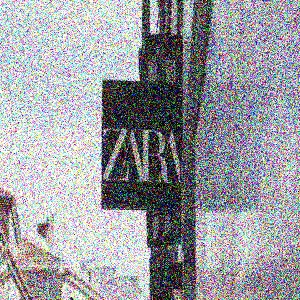zara: (134, 63, 234, 188)
